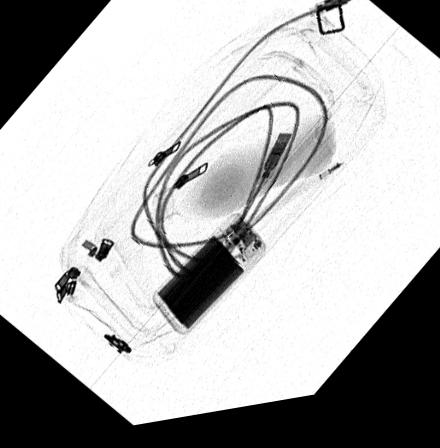Powerbank: (151, 220, 265, 341)
